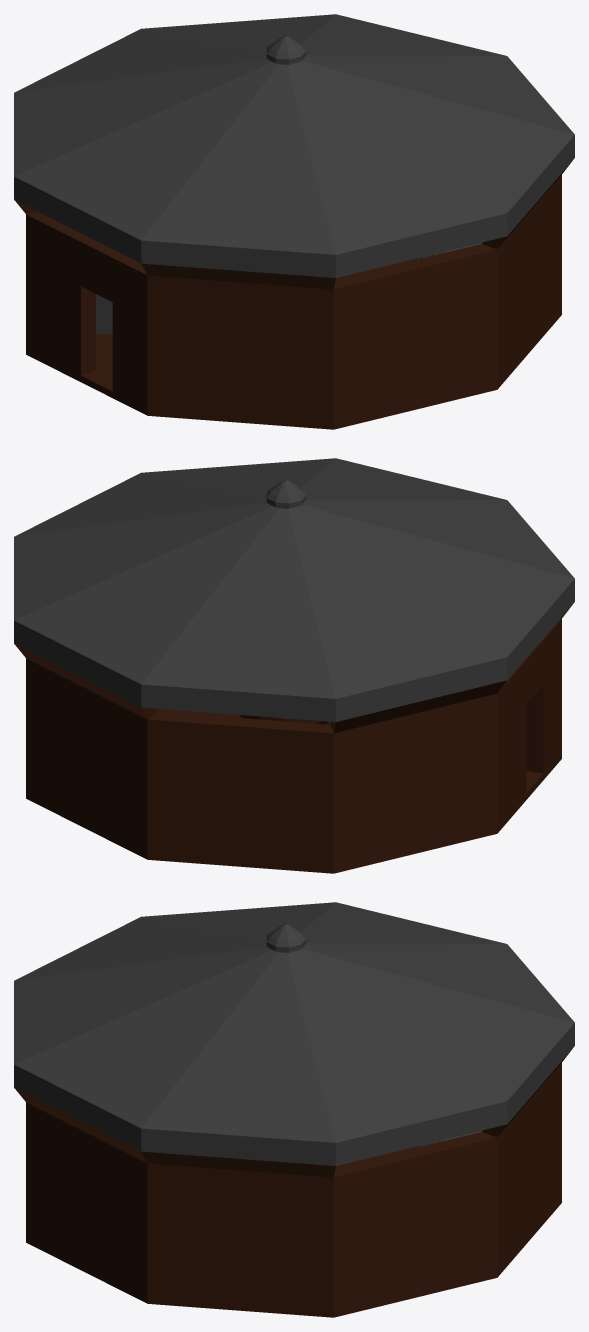
File: pano1.fbx
The picture shows the model from 3 angles, top to bottom: view 1: azimuth 30°, elevation 25°; view 2: azimuth 150°, elevation 25°; view 3: azimuth 270°, elevation 25°; orthographic projection.
Parts seen in each view (by area): view 1: Circle.002, new_cell.003_Cube.027; view 2: Circle.002; view 3: Circle.002.
Part boxes in pixels (x1,y1,x2,y2): Circle.002: (14, 14, 574, 429); new_cell.003_Cube.027: (96, 294, 112, 334); Circle.002: (14, 458, 574, 873); Circle.002: (14, 902, 574, 1317).
Size of the model in its own units: 13161 by 7106 by 12961.
